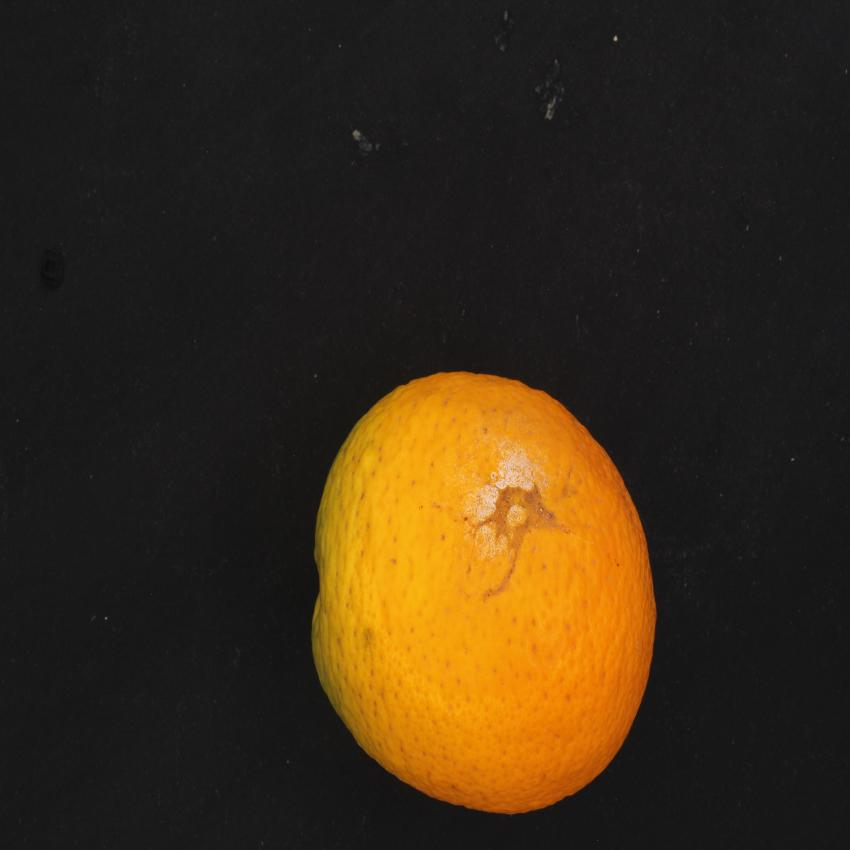Mal estado: (307, 358, 665, 821)
